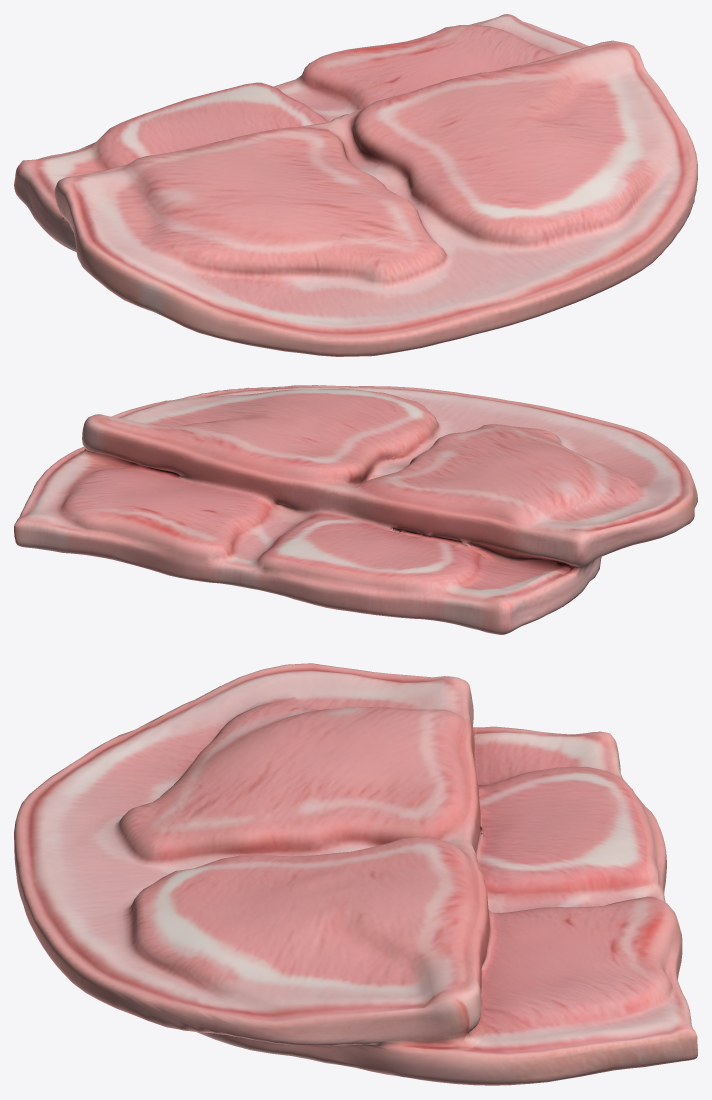
The model's file is Ham_on_ramen.fbx.
3 views of the same model, one above another, from view 1: azimuth 30°, elevation 25°; view 2: azimuth 150°, elevation 25°; view 3: azimuth 270°, elevation 25° (orthographic). The views are drawn at different scales.
Parts seen in each view (by area): view 1: Mesh_0.001; view 2: Mesh_0.001; view 3: Mesh_0.001.
Part boxes in pixels (x1,y1,x2,y2): Mesh_0.001: (14, 14, 697, 356); Mesh_0.001: (14, 385, 697, 634); Mesh_0.001: (14, 663, 697, 1085).
Bounding box in the file's own units: 181 × 23.1 × 147.
1 material, 1 textured.
